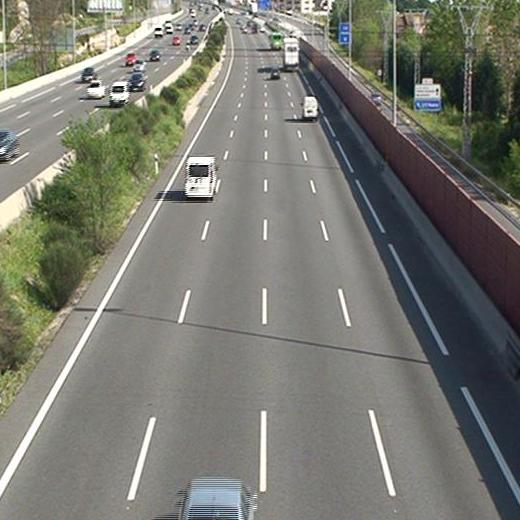bus: (270, 32, 283, 50)
car: (271, 68, 280, 79)
truck: (283, 37, 299, 70)
van: (186, 156, 216, 198), (301, 96, 317, 119)
